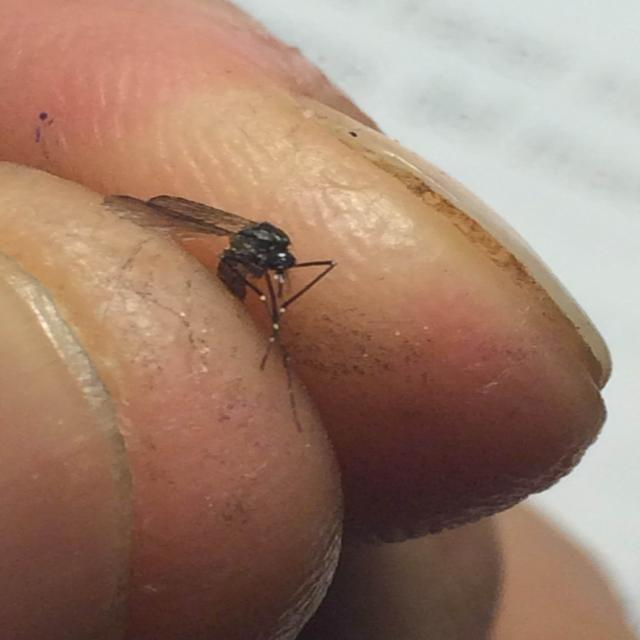albopictus: (94, 156, 340, 368)
